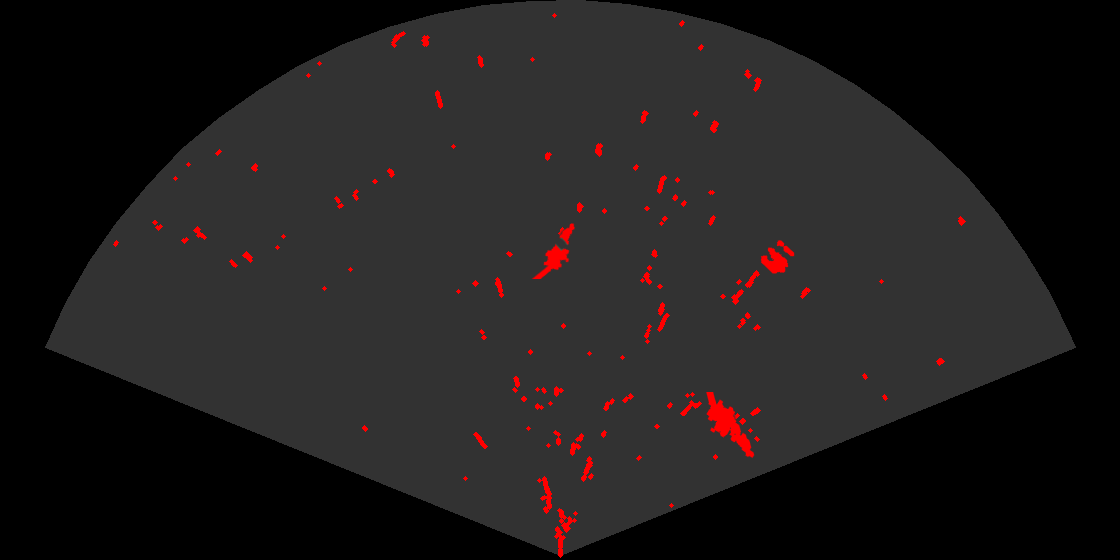ball: (759, 239, 796, 275)
frogman: (705, 392, 756, 459), (530, 222, 577, 279)
